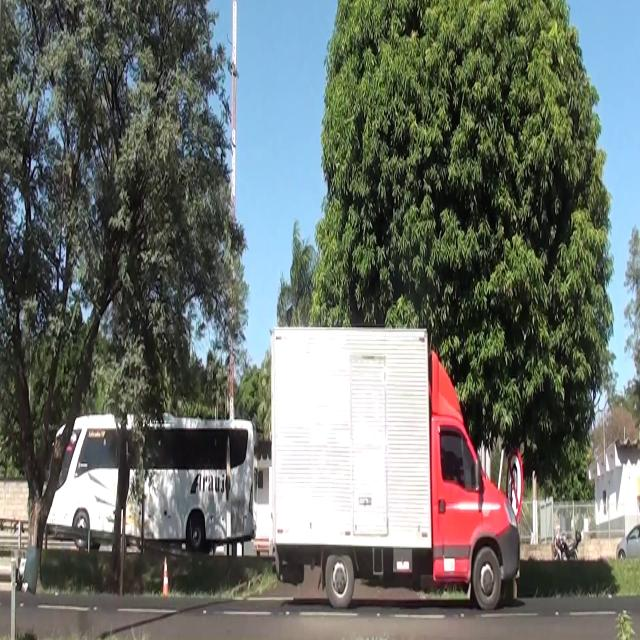-axle: (472, 541, 502, 615), (325, 546, 355, 614)
